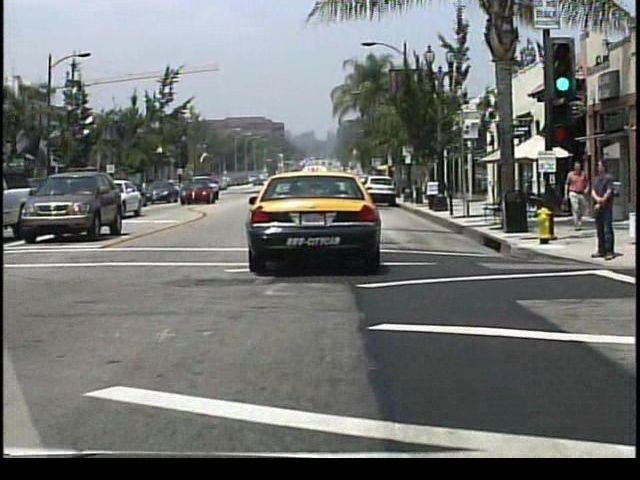person: (594, 157, 618, 263), (566, 160, 590, 231)
